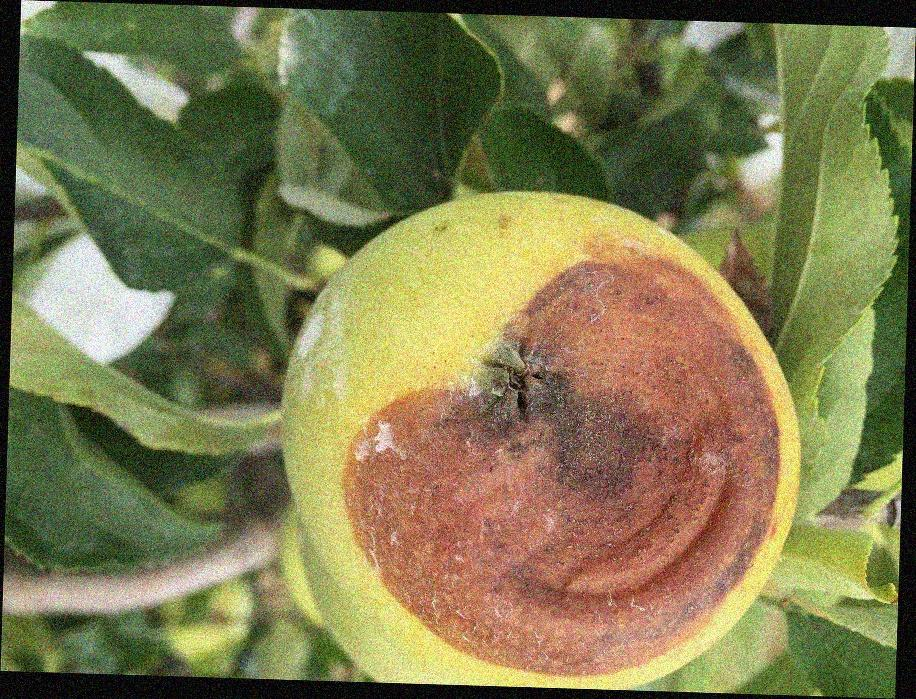rotten apple: (279, 189, 803, 688)
